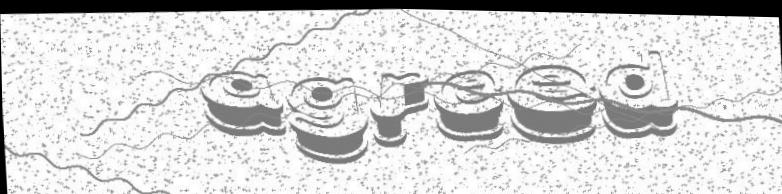a: (198, 66, 288, 139)
d: (596, 42, 679, 138)
e: (506, 59, 599, 143), (431, 66, 506, 140)
g: (286, 72, 372, 164)
r: (368, 68, 432, 147)
